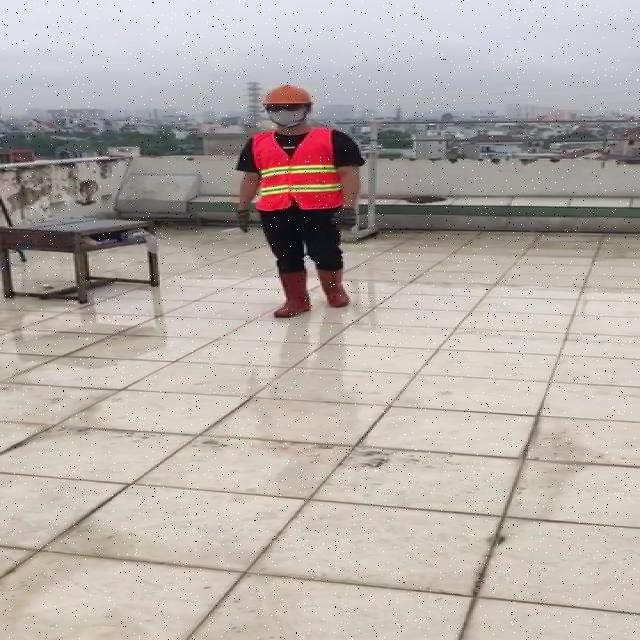Hard_hat: (258, 82, 319, 115)
Person: (224, 80, 365, 325)
Vest: (251, 123, 344, 212)
